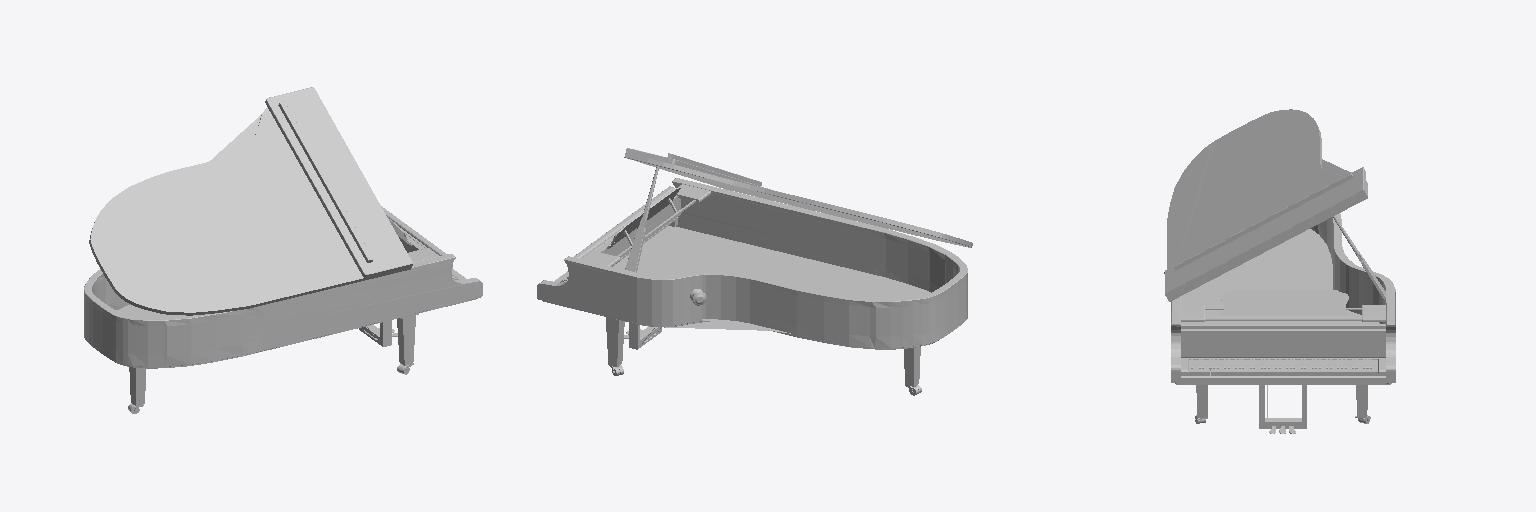
Rendered from Joined_piano.obj.
The picture shows the model from 3 angles: view 1: azimuth 30°, elevation 25°; view 2: azimuth 150°, elevation 25°; view 3: azimuth 270°, elevation 25°; orthographic projection.
Parts seen in each view (by area): view 1: Couvercle_Piano_texture; view 2: Couvercle_Piano_texture; view 3: Couvercle_Piano_texture.
Boxes of the visible parts, x1=… form: Couvercle_Piano_texture: x1=84, y1=87, x2=482, y2=413; Couvercle_Piano_texture: x1=537, y1=148, x2=972, y2=395; Couvercle_Piano_texture: x1=1164, y1=109, x2=1395, y2=433.
Bounding box in the file's own units: 32.32 × 20.42 × 18.68.